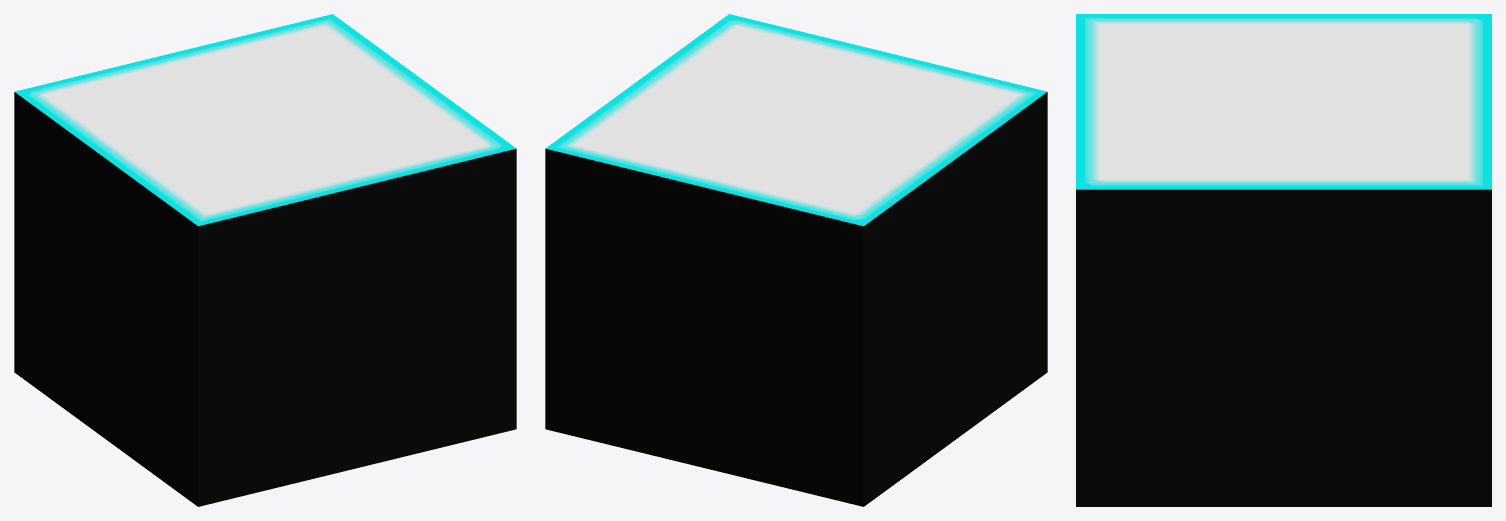
Rendered from OceanVolume01.FBX.
3 renders of one model, left to right at view 1: azimuth 30°, elevation 25°; view 2: azimuth 150°, elevation 25°; view 3: azimuth 270°, elevation 25°, orthographic. The views are drawn at different scales.
Parts seen in each view (by area): view 1: OceanVolume01; view 2: OceanVolume01; view 3: OceanVolume01.
Boxes of the visible parts, x1,y1,x2,y2 form: OceanVolume01: (14,14,516,506); OceanVolume01: (545,14,1047,506); OceanVolume01: (1076,14,1491,506).
Bounding box in the file's own units: 100 × 100 × 84.21.
